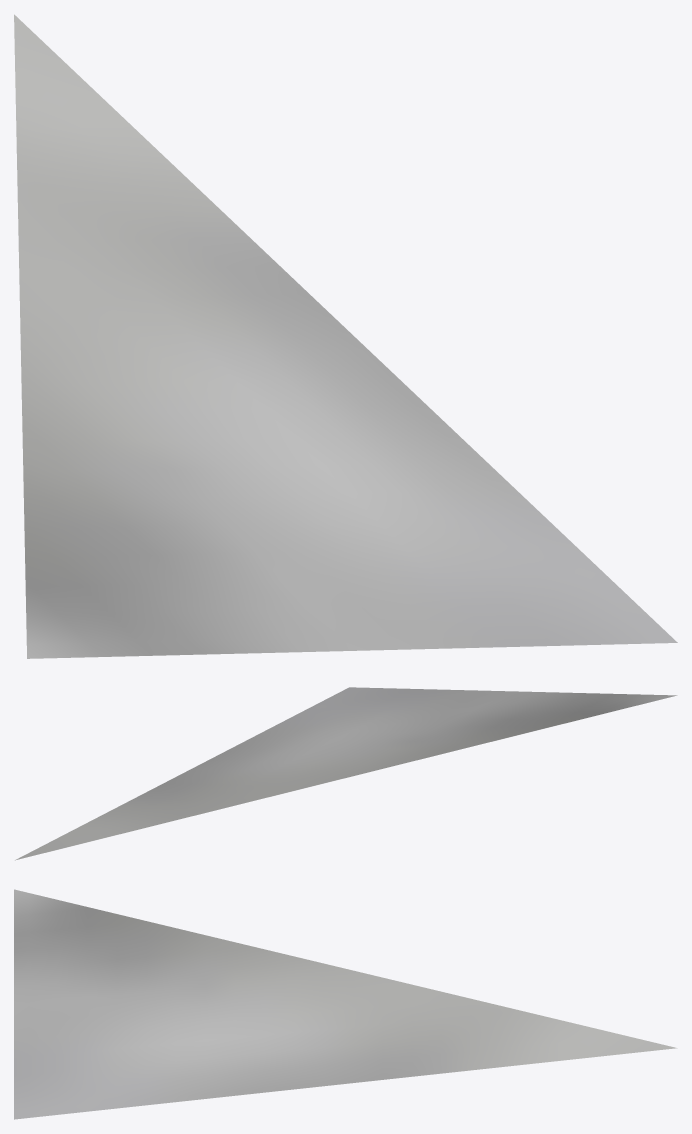
3 renders of one model, top to bottom at view 1: azimuth 30°, elevation 25°; view 2: azimuth 150°, elevation 25°; view 3: azimuth 270°, elevation 25°, orthographic. The views are drawn at different scales.
Bounding box in the file's own units: 0.0406 × 0.00851 × 0.0717.
Materials: 1 (1 with a texture image).
